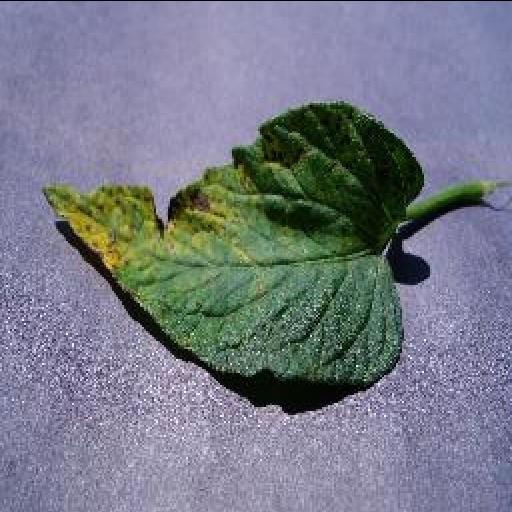disease_tomato: (40, 100, 426, 388)
